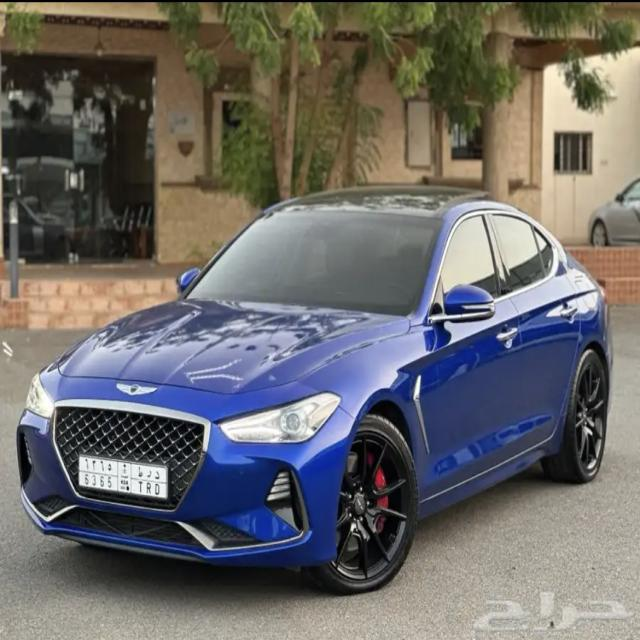license_plate: (78, 455, 169, 501)
